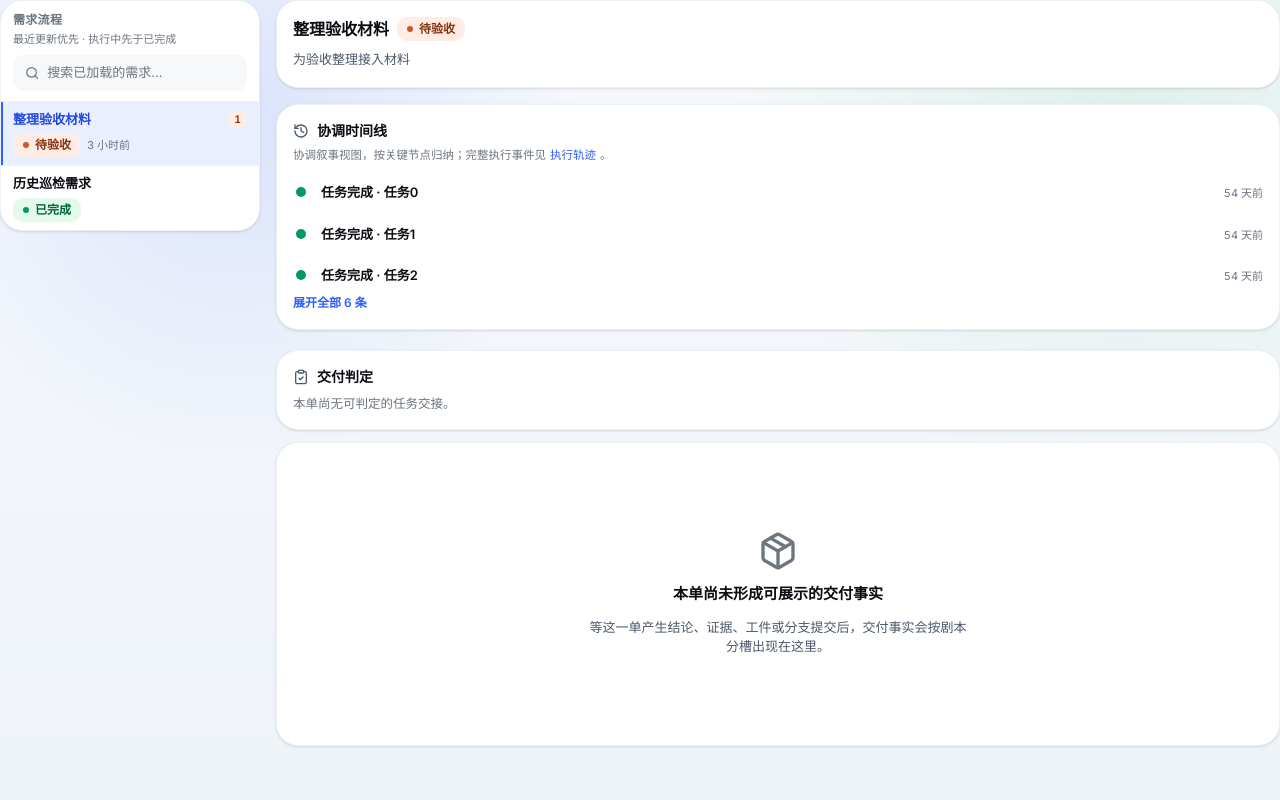
Test: ProjectDemandsSection › collapses the timeline when signals imply inspect density and expands on demand
Expected: the text "任务完成 · 任务0" is shown, [321,183,418,202]
Expected: the text "任务完成 · 任务5" is not shown
Click the button with test id "demand-dossier-timeline-expand" at (330, 302), box [293,294,367,312]
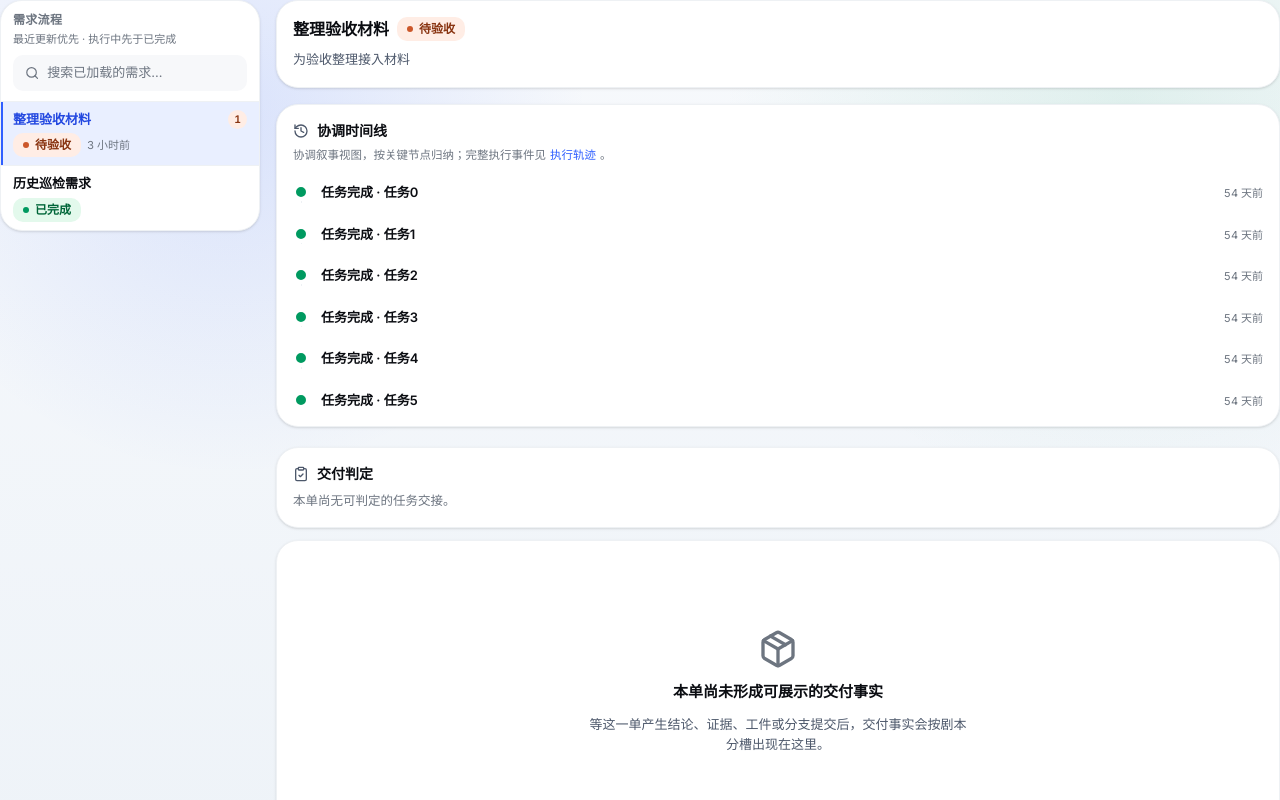
Result: the text "任务完成 · 任务5" is shown at [321,390,418,410]
